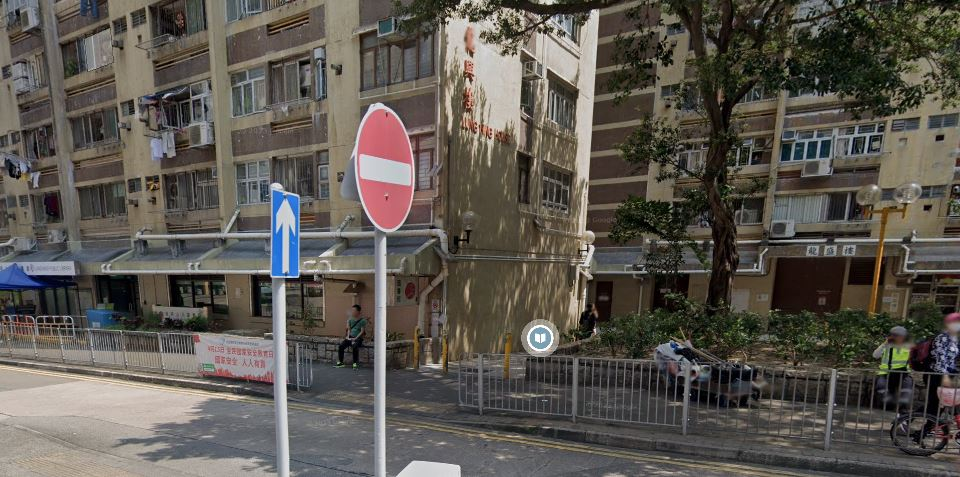No Enter: (353, 105, 420, 233)
One Way Traffic: (270, 186, 306, 282)
